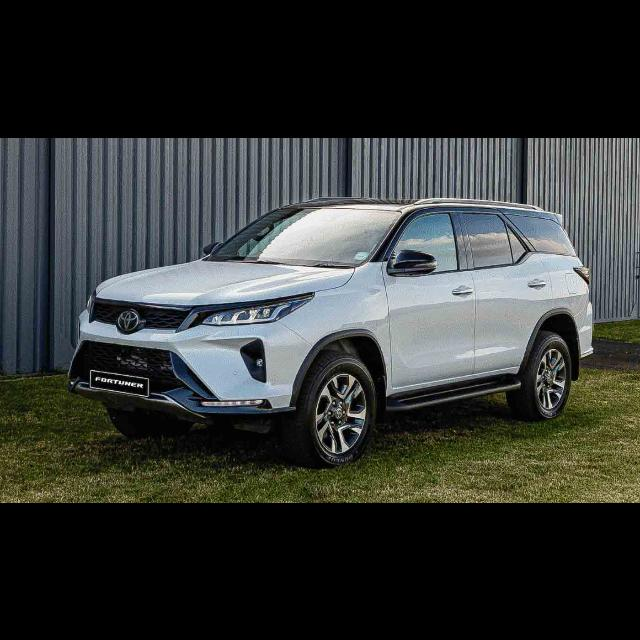vehicles: (64, 192, 588, 470)
